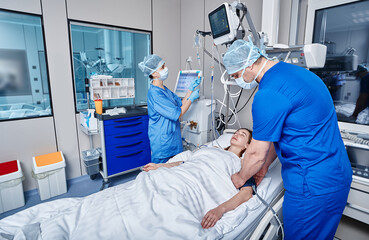Doctor: (223, 40, 290, 134)
Nurse: (138, 54, 183, 138)
